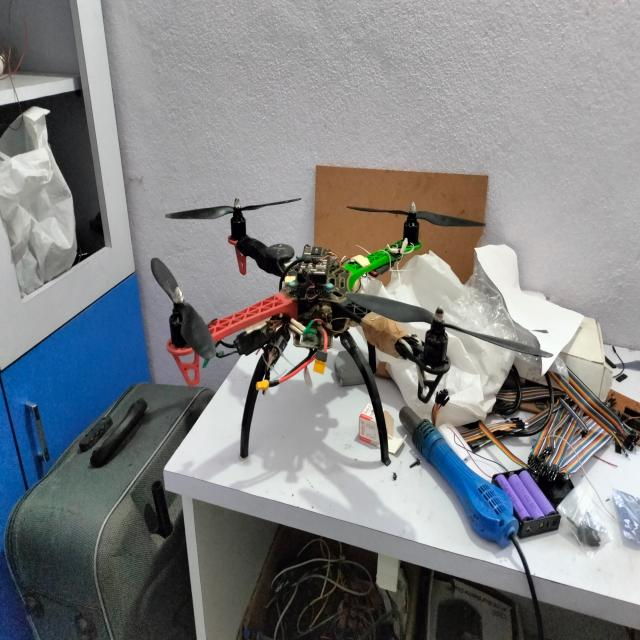drone: (146, 165, 520, 458)
